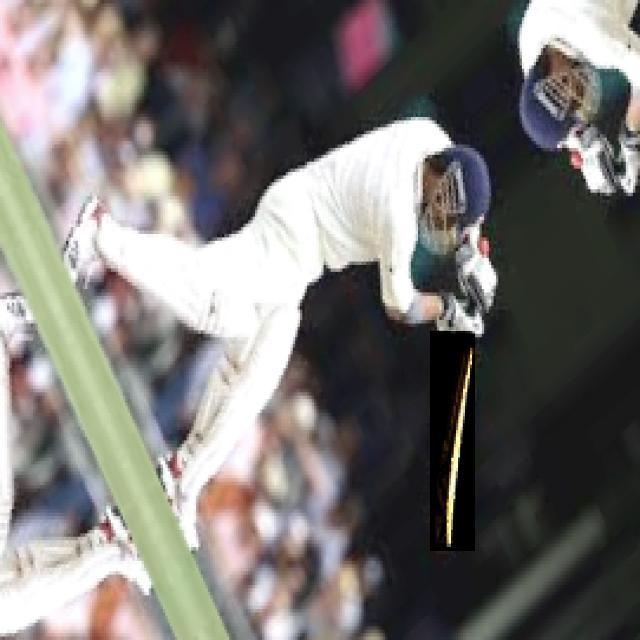bat: (435, 330, 477, 547)
